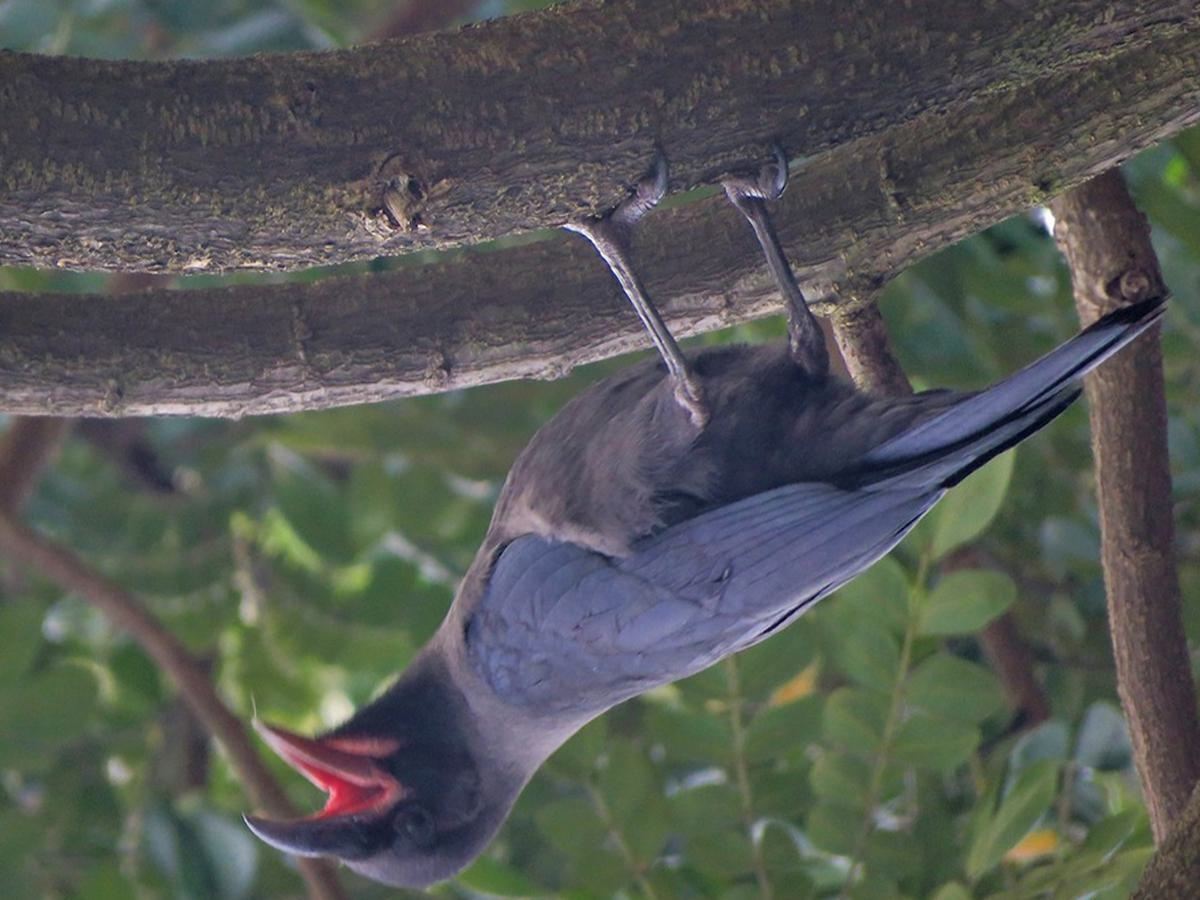crow: (231, 155, 1181, 892)
